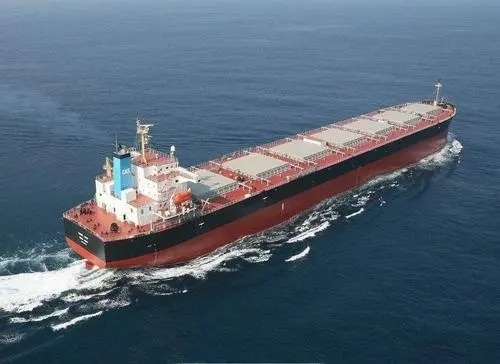Cargoship: (54, 73, 459, 278)
